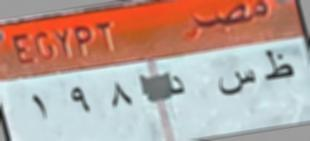1: (29, 89, 52, 123)
8: (107, 80, 133, 113)
9: (68, 85, 92, 119)
Thaa: (262, 48, 296, 85)
daal: (165, 72, 188, 97)
seen: (217, 68, 257, 97)
